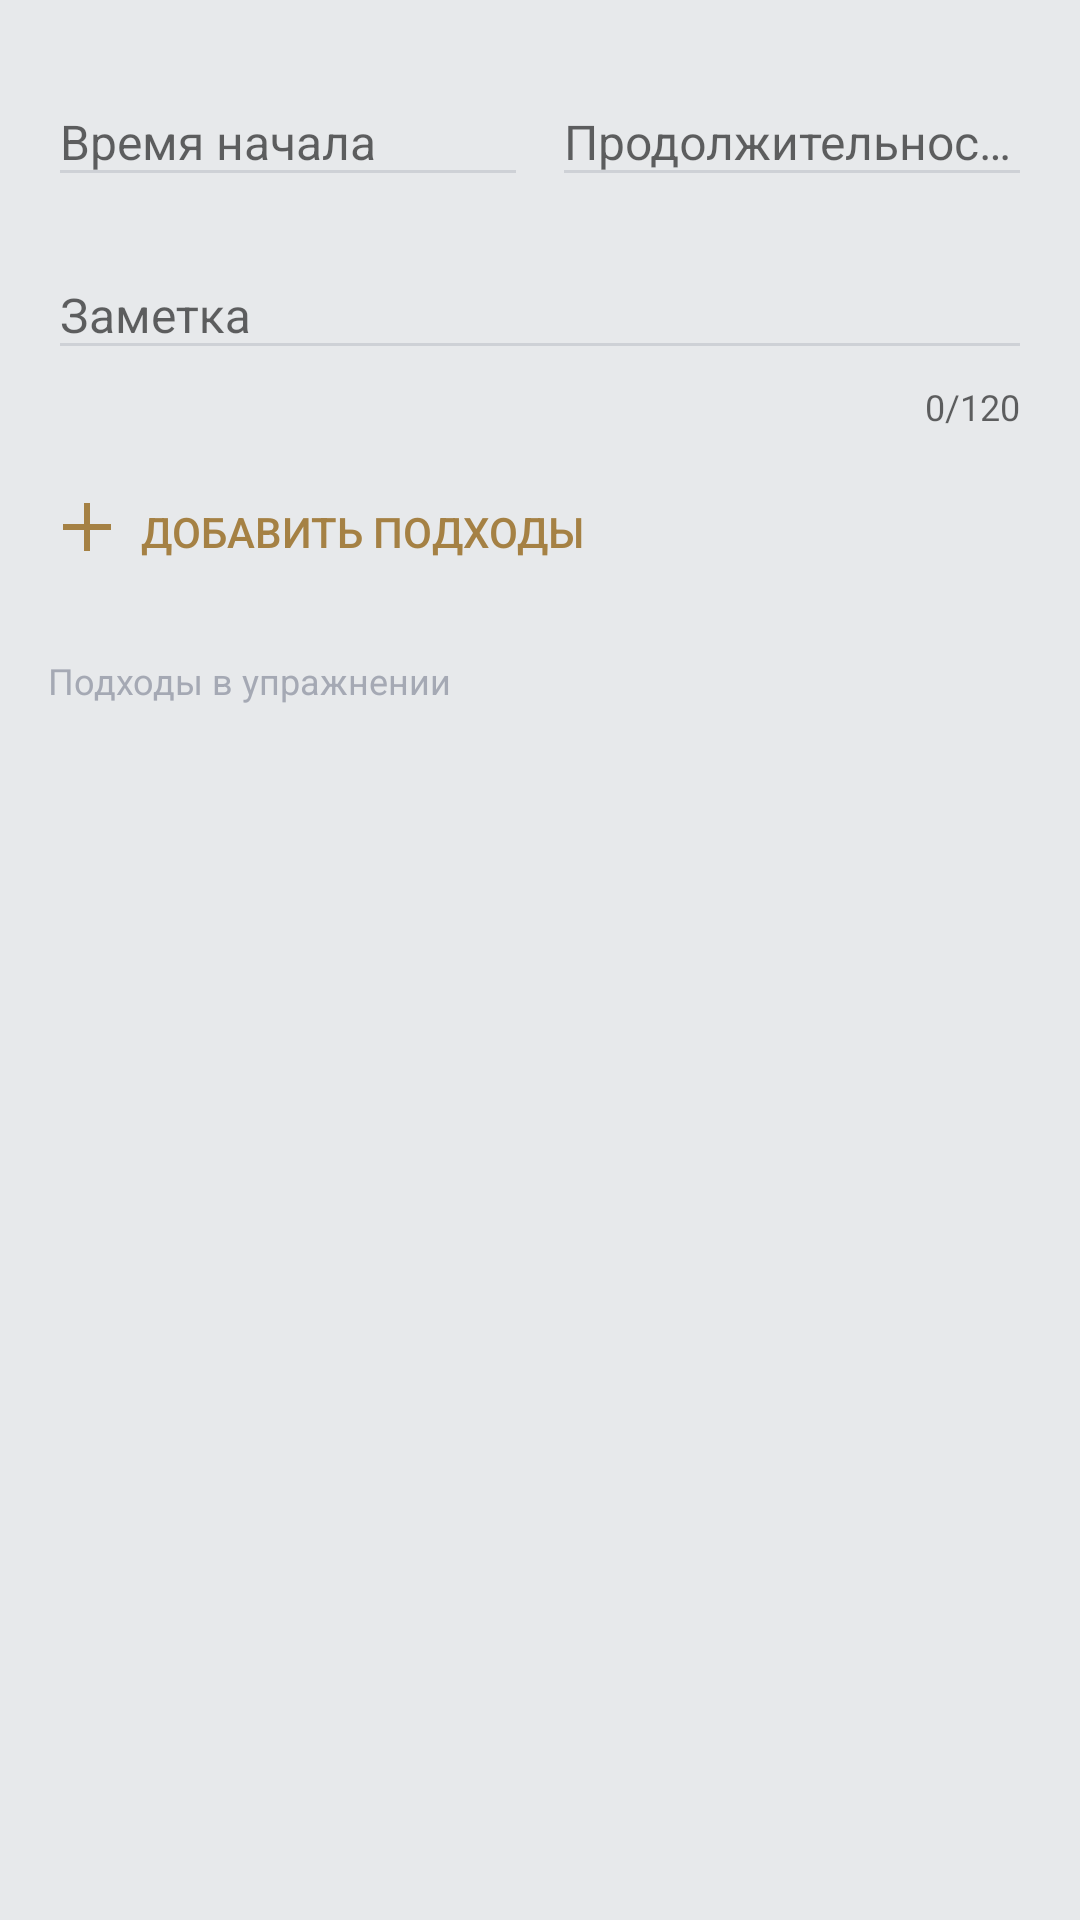

Icons on this 1080 x 1920 Android screen, each with its box as (x1, y1, x2, y2):
add: (63, 503, 111, 551)
